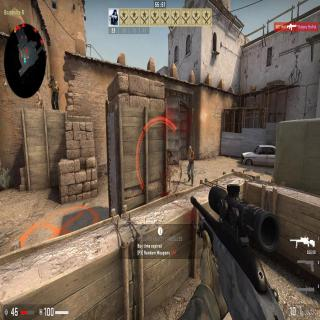T-Body: (47, 72, 60, 110), (187, 144, 194, 185)
T-Head: (188, 145, 192, 152), (50, 74, 54, 80)
